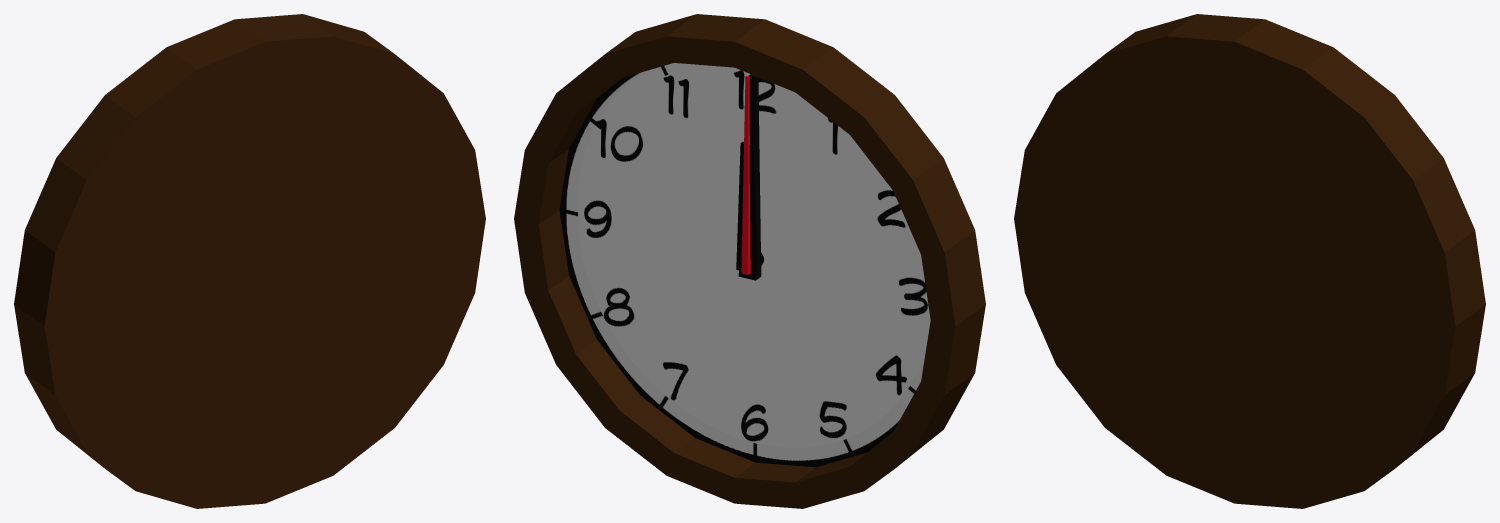
The model's file is Clock4v2.fbx.
The picture shows the model from 3 angles, left to right: view 1: azimuth 30°, elevation 25°; view 2: azimuth 150°, elevation 25°; view 3: azimuth 330°, elevation 25°; orthographic projection.
Visible parts, largest first — view 1: Cylinder; view 2: Cylinder, Hours.001, Seconds.001, Minutes.001; view 3: Cylinder.
Part boxes in pixels (x1,y1,x2,y2): Cylinder: (14, 14, 485, 508); Cylinder: (514, 14, 985, 508); Hours.001: (736, 141, 761, 274); Seconds.001: (741, 75, 750, 274); Minutes.001: (738, 74, 761, 280); Cylinder: (1014, 14, 1485, 508).
Size of the model in its own units: 200 by 200 by 24.
